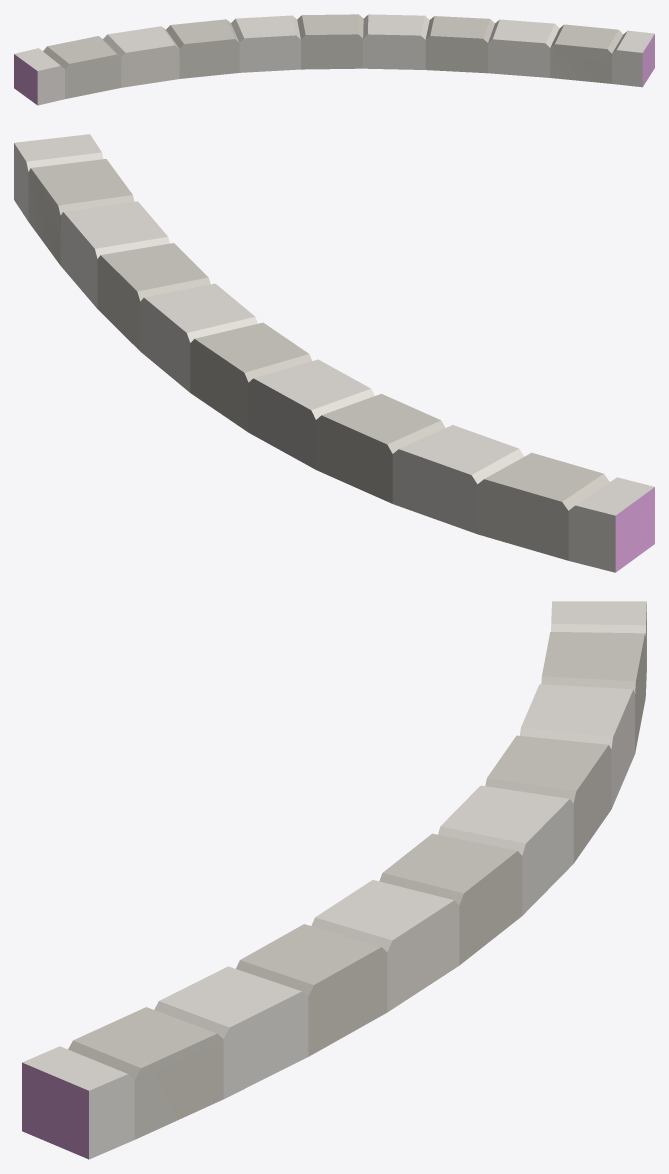
The model's file is Path_Edging_Stones_45_Degrees_Curve_Outer_3x4.glb.
The picture shows the model from 3 angles, top to bottom: view 1: azimuth 30°, elevation 25°; view 2: azimuth 150°, elevation 25°; view 3: azimuth 270°, elevation 25°; orthographic projection. The views are drawn at different scales.
Parts seen in each view (by area): view 1: Path_Edging_Stones_45_Degrees_Curve_Outer_3x4; view 2: Path_Edging_Stones_45_Degrees_Curve_Outer_3x4; view 3: Path_Edging_Stones_45_Degrees_Curve_Outer_3x4.
Part boxes in pixels (x1,y1,x2,y2): Path_Edging_Stones_45_Degrees_Curve_Outer_3x4: (14,14,654,105); Path_Edging_Stones_45_Degrees_Curve_Outer_3x4: (14,134,654,572); Path_Edging_Stones_45_Degrees_Curve_Outer_3x4: (22,601,646,1159).
Bounding box in the file's own units: 382 × 25 × 206.
